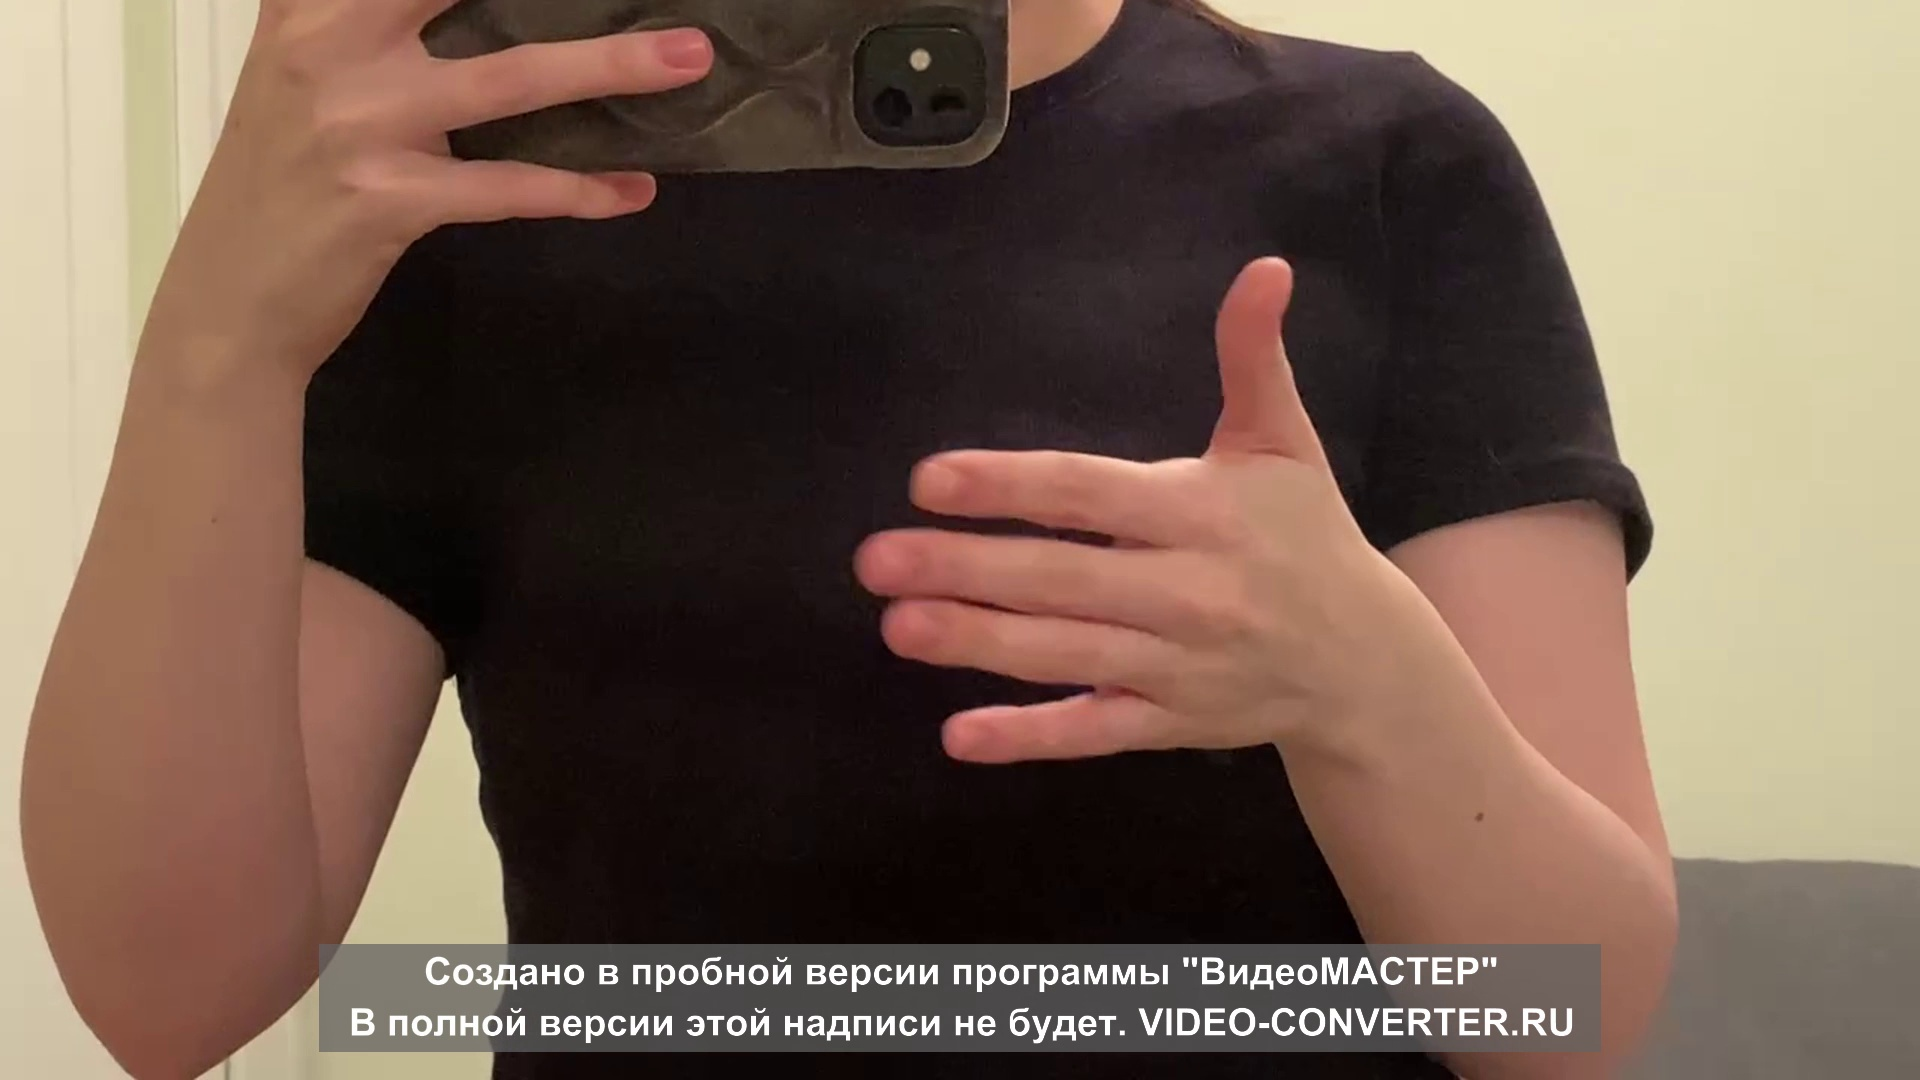Кисть: (851, 255, 1357, 760)
